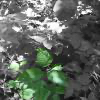Raspberry leaf: (13, 68, 45, 84), (47, 69, 70, 86), (36, 46, 52, 67)
